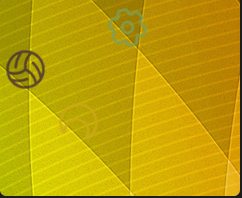gear: (106, 6, 150, 49)
moon: (57, 99, 102, 143)
volleyball: (4, 48, 45, 90)
